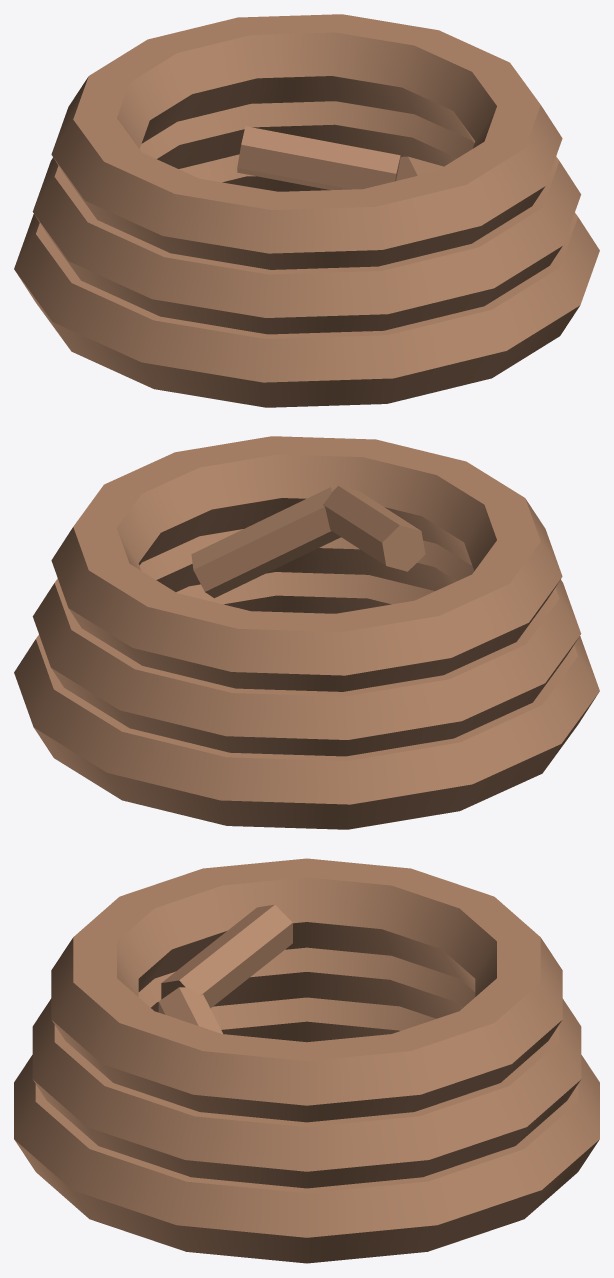
Rendered from RopeCoil.fbx.
3 views of the same model, one above another, from view 1: azimuth 30°, elevation 25°; view 2: azimuth 150°, elevation 25°; view 3: azimuth 270°, elevation 25° (orthographic). The views are drawn at different scales.
Parts seen in each view (by area): view 1: LOD0; view 2: LOD0; view 3: LOD0.
Boxes of the visible parts, x1,y1,x2,y2 form: LOD0: [14, 14, 599, 407]; LOD0: [14, 436, 599, 829]; LOD0: [14, 858, 599, 1263].
Size of what is drawn, in the model's own units: 37.6 by 14 by 36.66.
